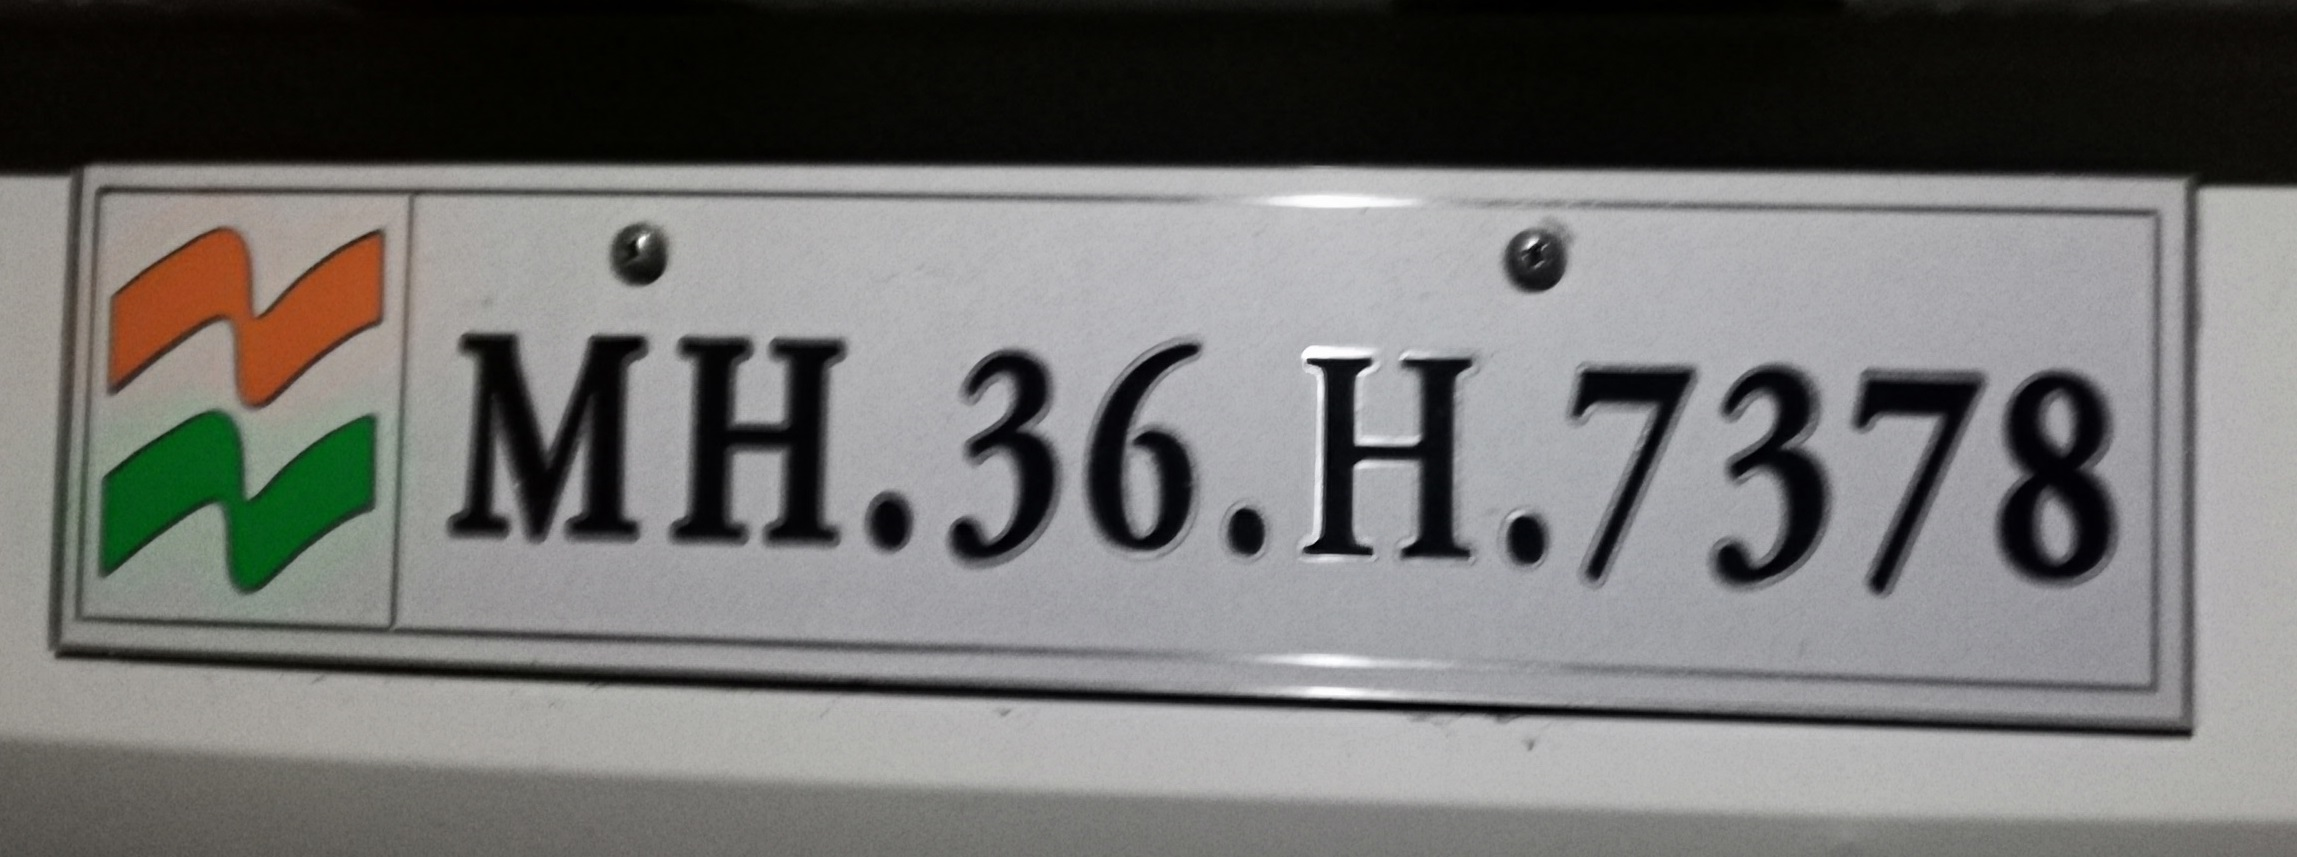numberplate: (58, 157, 2209, 747)
